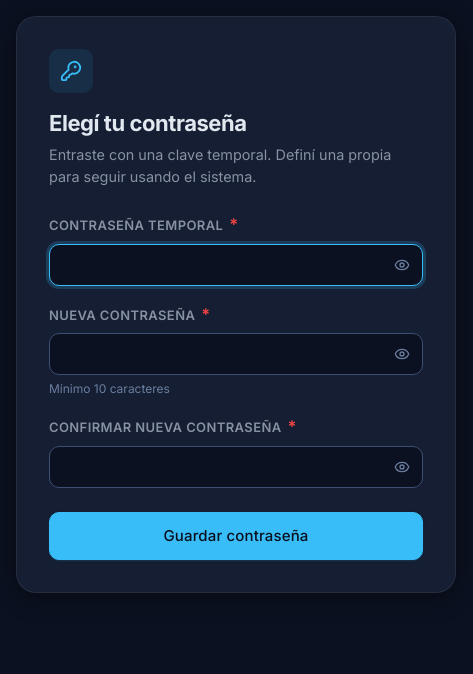
Test: ChangePasswordPage › muestra el error del backend sin navegar
Type "wrong" into the password field labelled "Contraseña temporal" at (236, 265), box [49, 244, 423, 286]
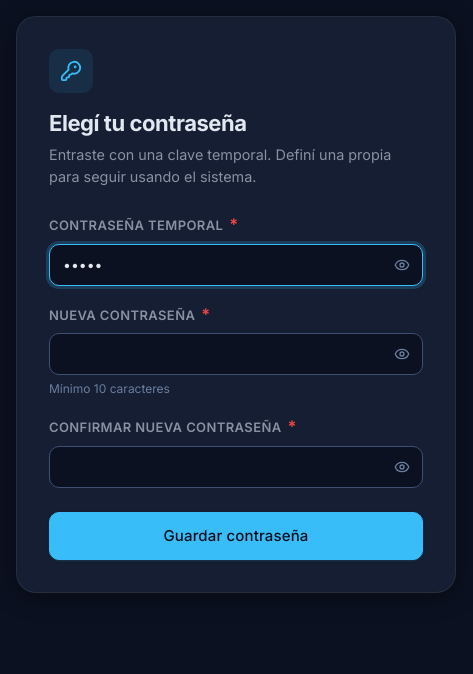
Type "clave-definitiva" into the password field labelled "Nueva contraseña" at (236, 354), box [49, 333, 423, 375]
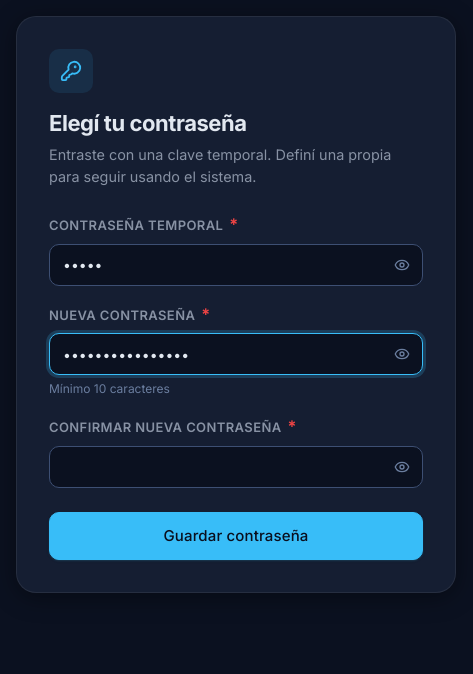
Type "clave-definitiva" into the password field labelled "Confirmar nueva contraseña" at (236, 467), box [49, 446, 423, 488]
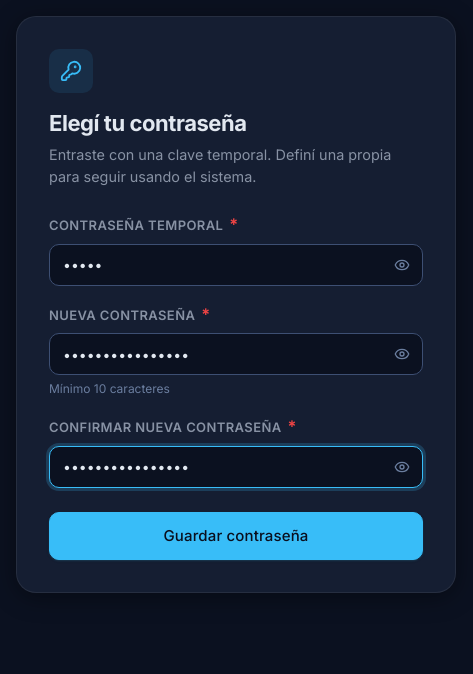
Click the button "Guardar contraseña" at (236, 536), box [49, 512, 423, 560]
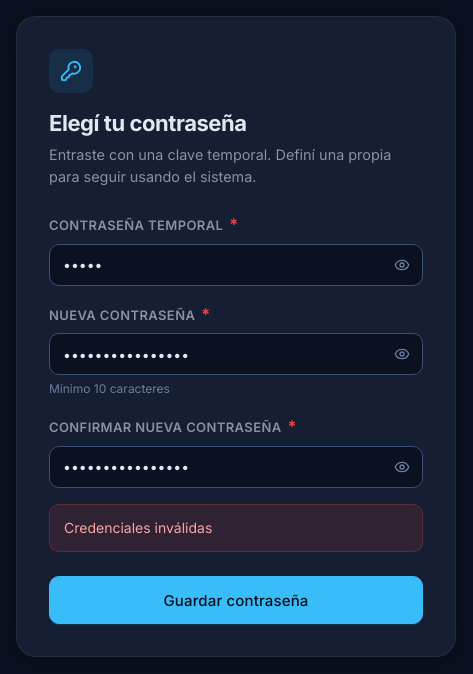
Check: the text "Credenciales inválidas" is shown, box [49, 504, 423, 552]
